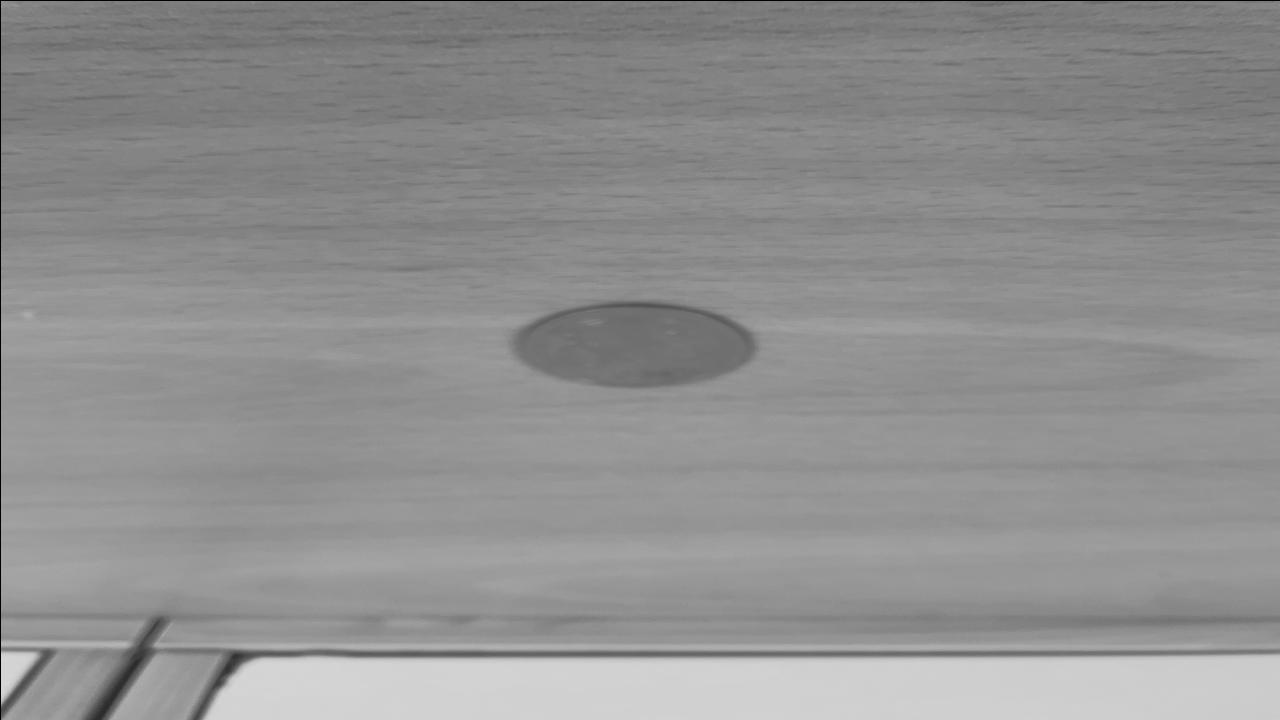coin: (513, 302, 755, 390)
